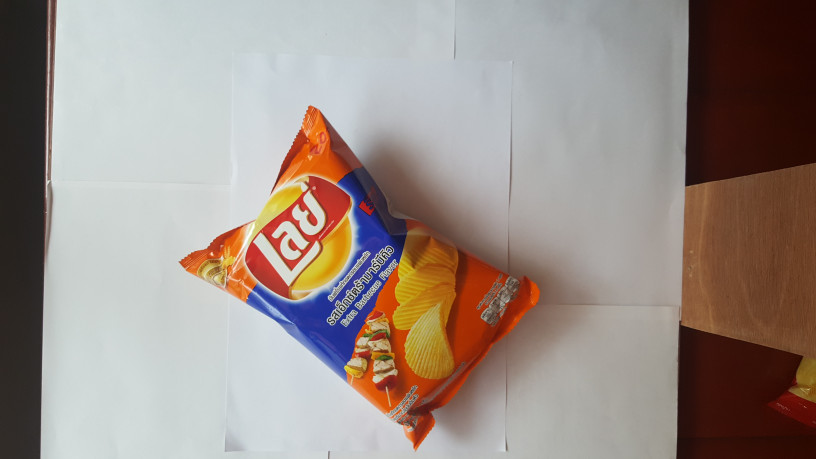lays-bbq: (174, 99, 543, 451)
